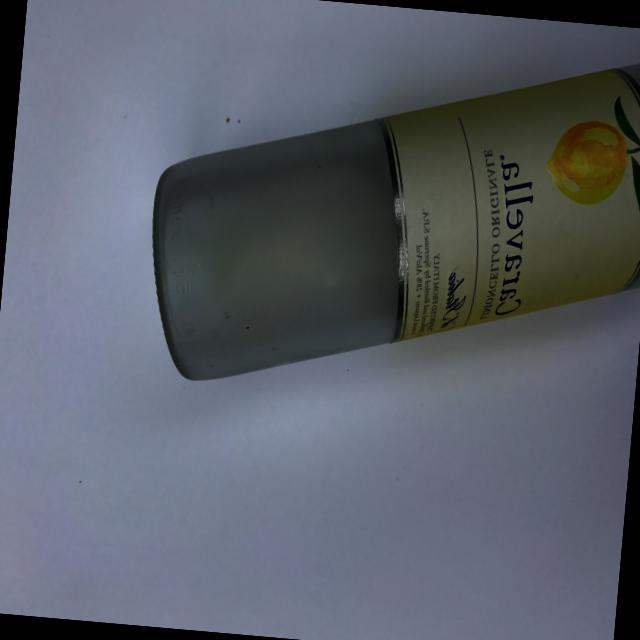Glass: (131, 3, 640, 428)
